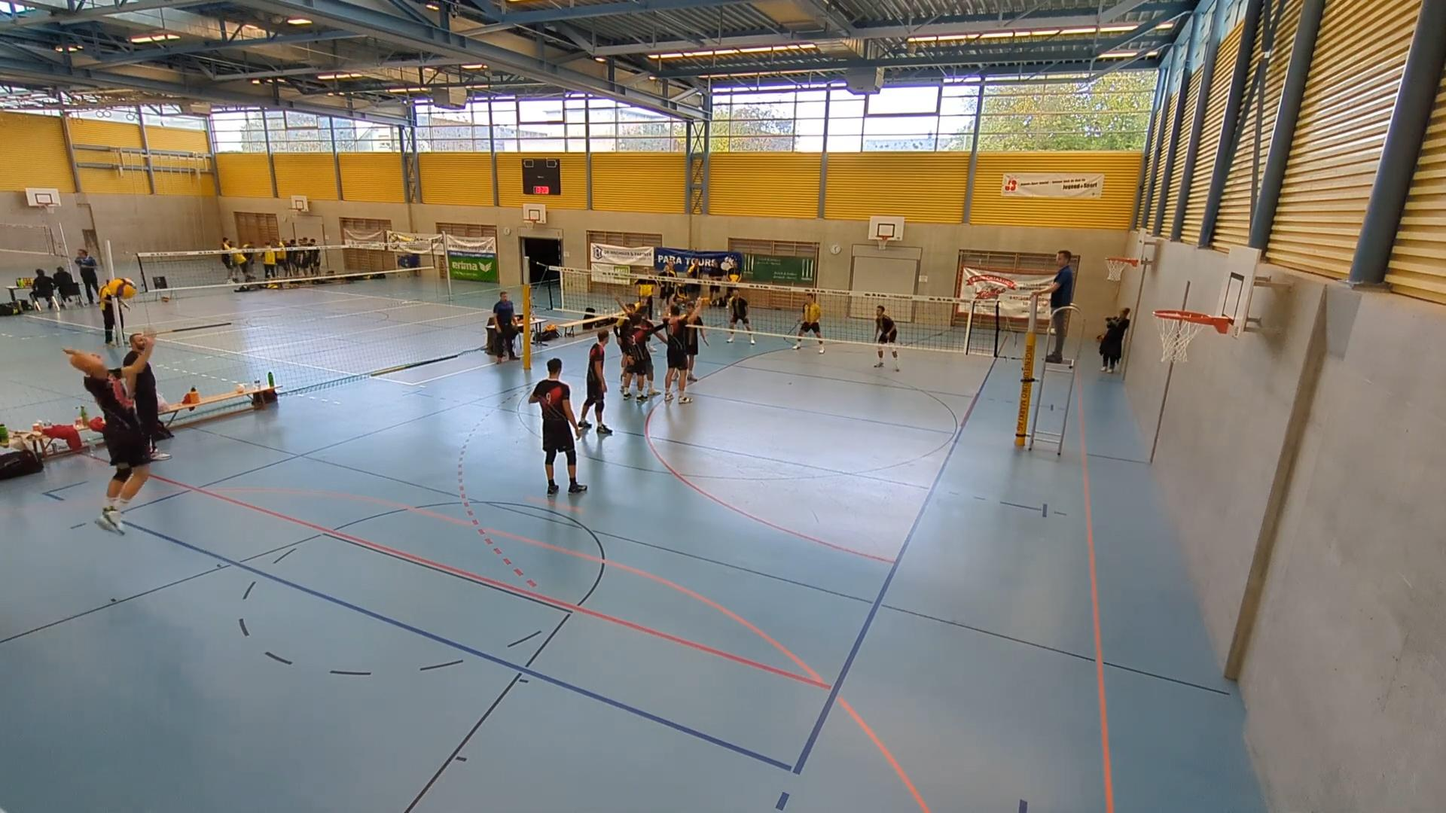battuta: (54, 333, 172, 539)
